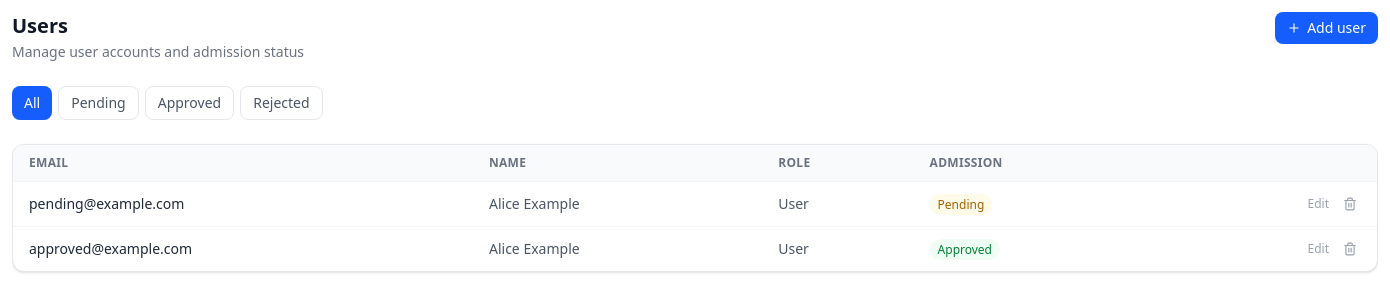
Test: UsersPage › filters the list by admission status
The width and height of the screenshot is (1390, 290).
Expected: the text "pending@example.com" is shown, [13,182,473,226]
Expected: the text "approved@example.com" is shown, [13,226,473,271]
Click the button "Approved" at (189, 103), box [145,86,234,120]
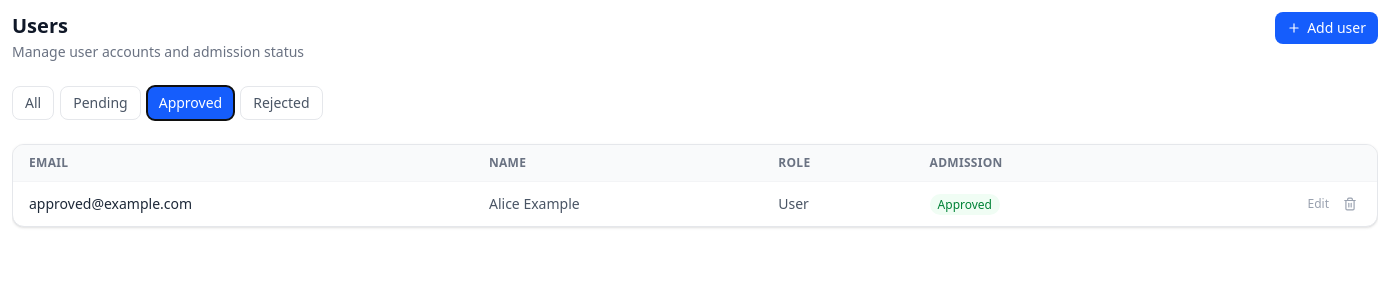
Expected: the text "approved@example.com" is shown, [13,182,473,226]
Expected: the text "pending@example.com" is gone
